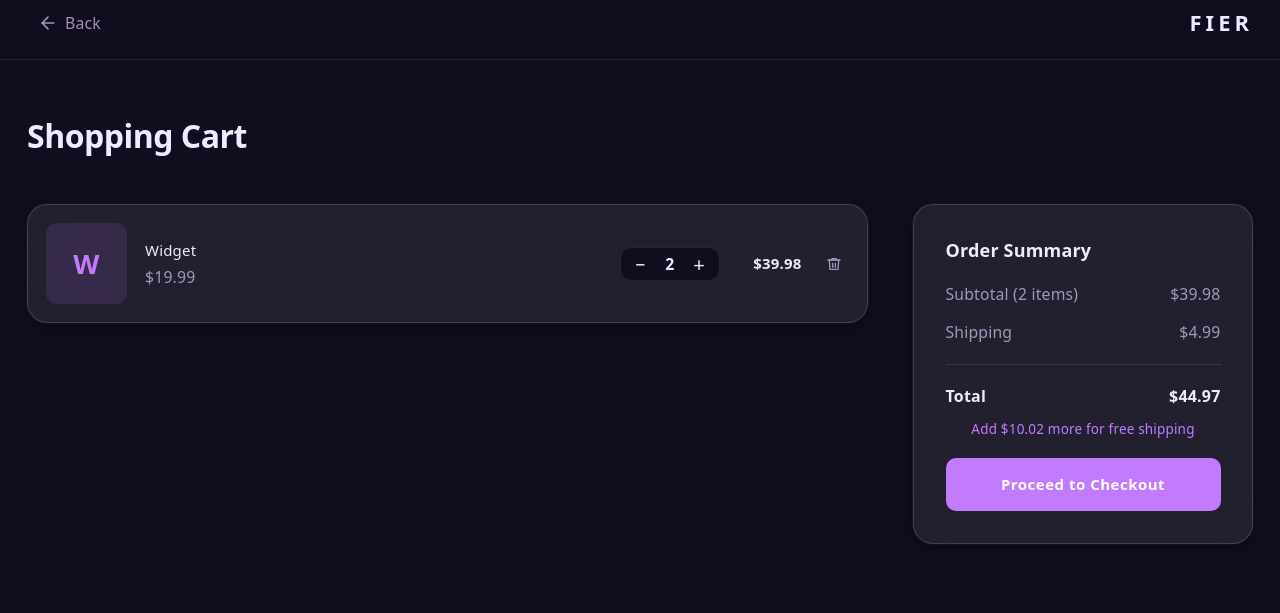
Test: CartPage › shows network error message when fetch throws
Click the button "Proceed to Checkout" at (1083, 485), box [946,458,1220,512]
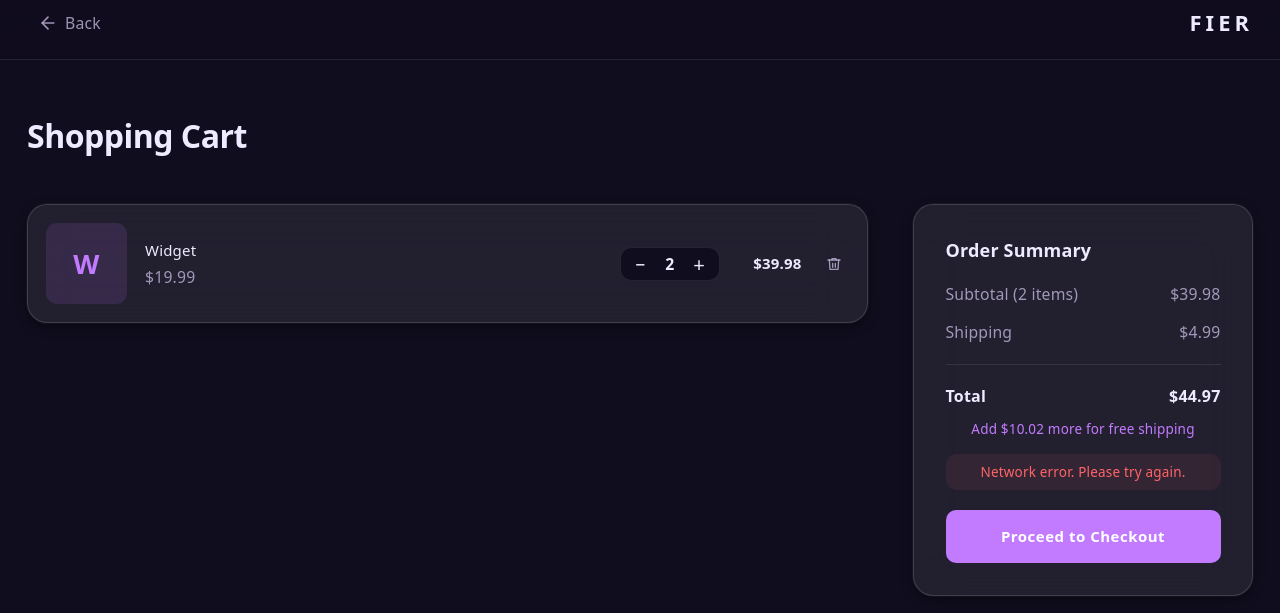
Check: the text "Network error. Please try again." is shown, box [946,454,1220,490]
